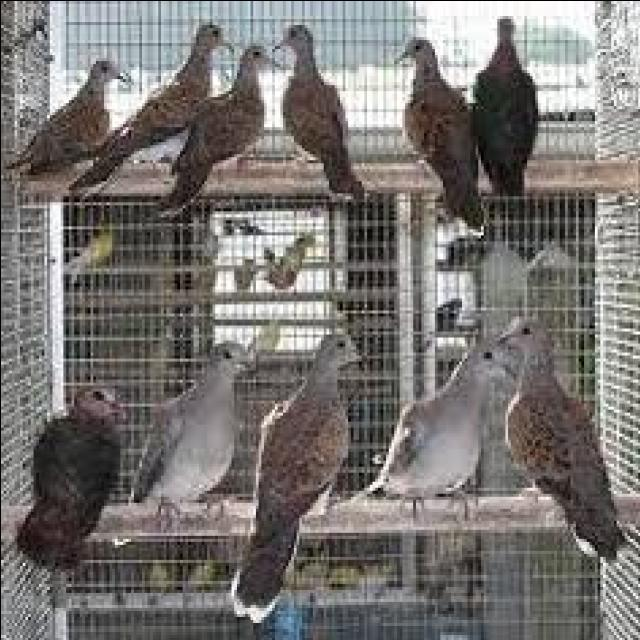pigeon: (378, 326, 512, 522), (127, 328, 250, 520)
